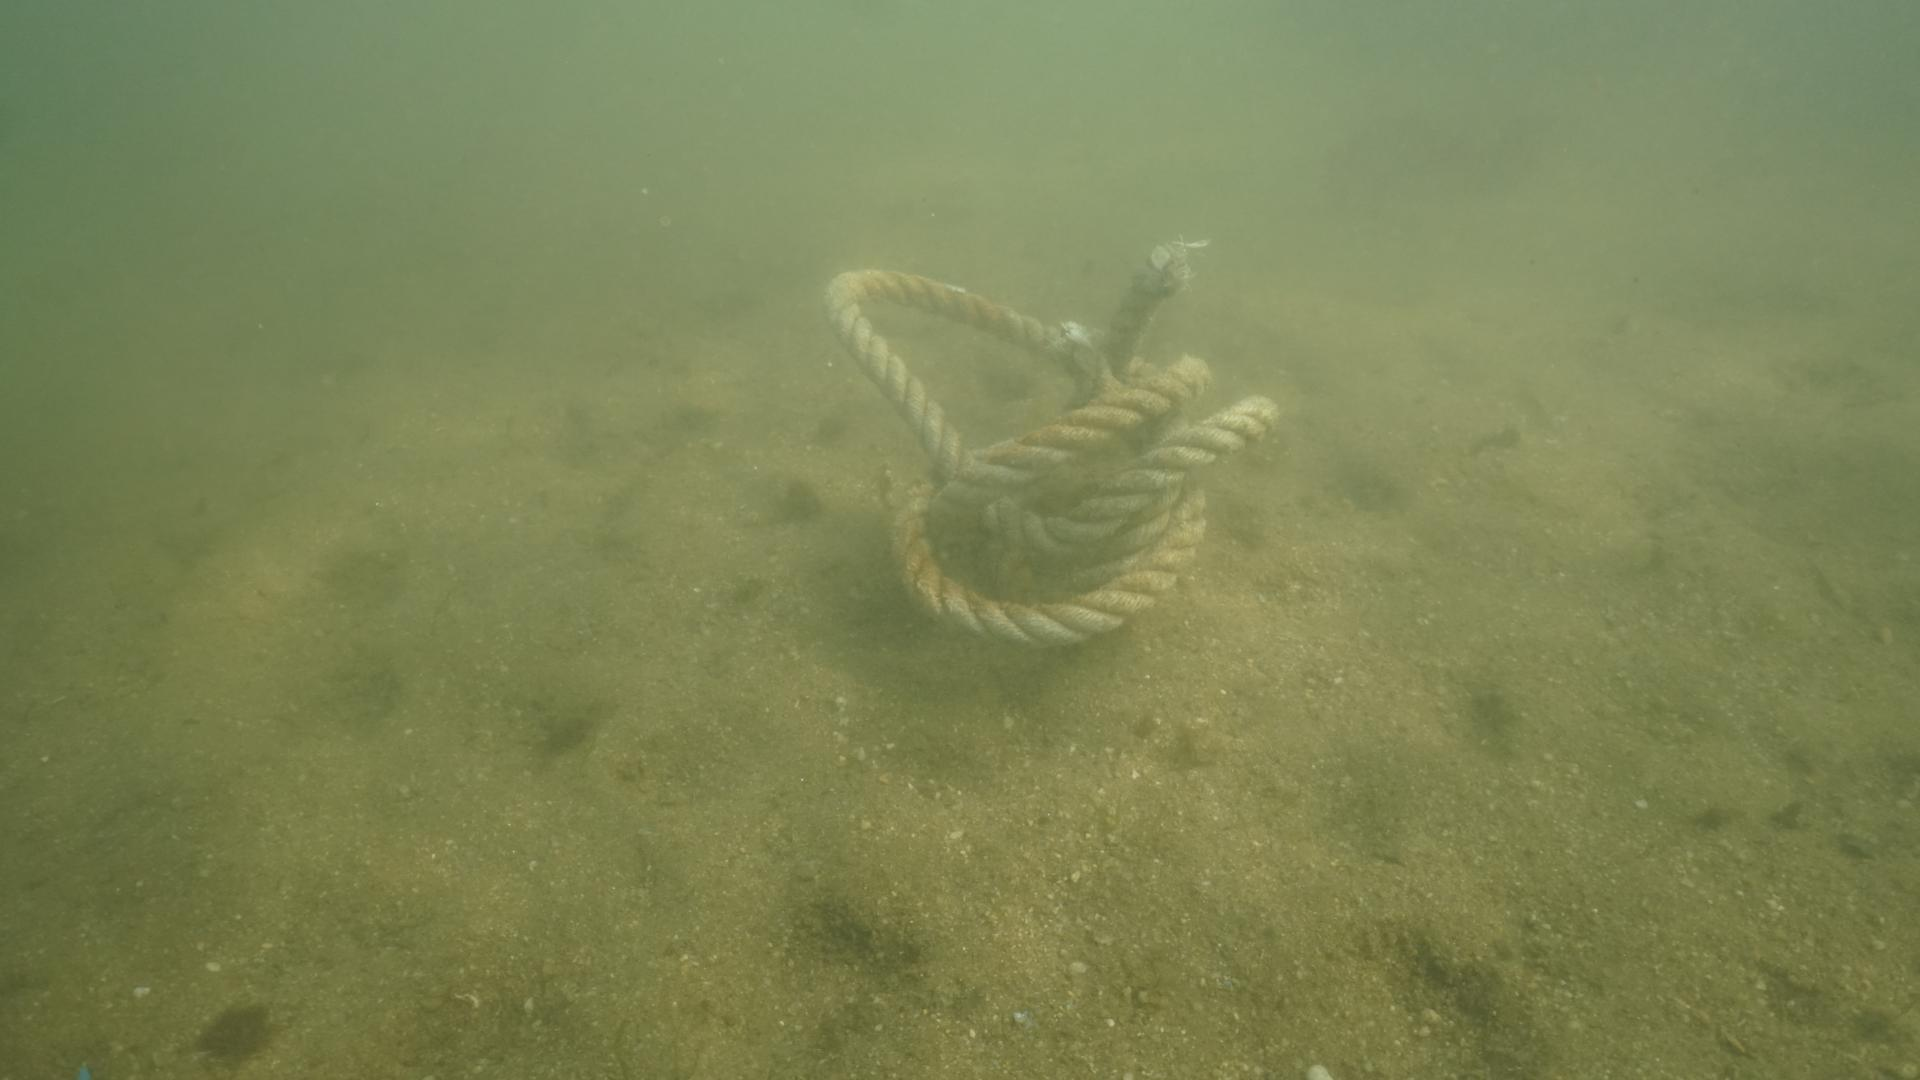bundle of ropes: (822, 243, 1283, 650)
